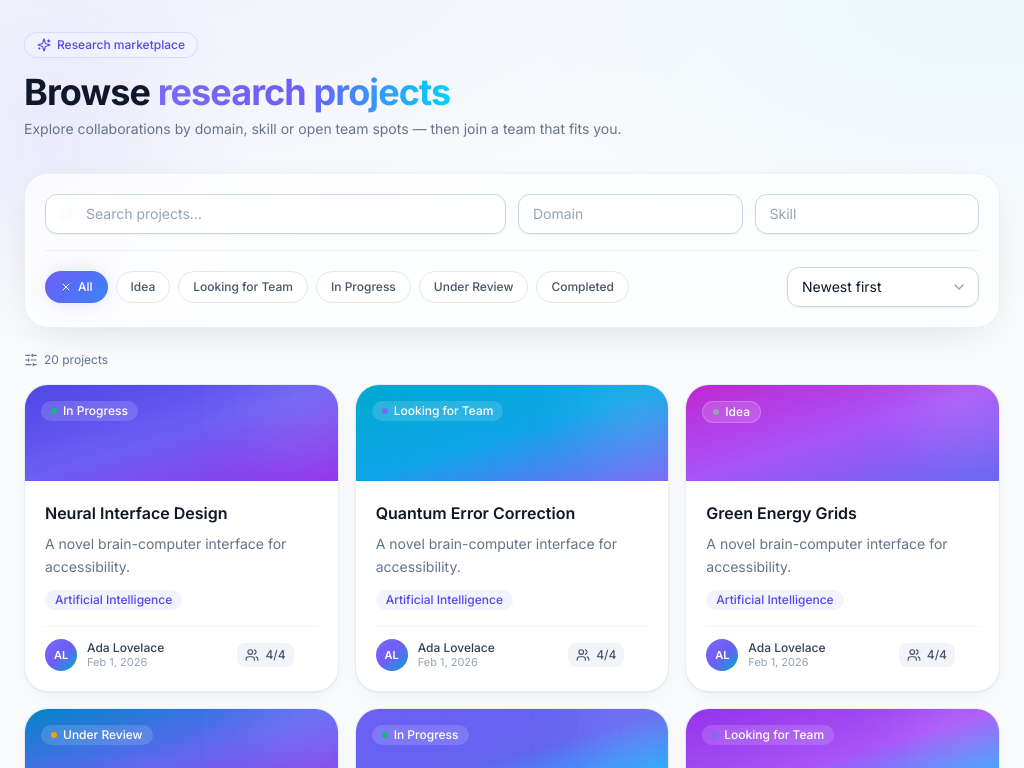
Test: Project Directory › shows an empty state when nothing matches
Expected: the heading "Neural Interface Design" is shown, x1=45 y1=503 x2=228 y2=523
Type "zzz-no-match" into the search field labelled "Search projects" at x=276, y=214, box x1=45 y1=194 x2=506 y2=234
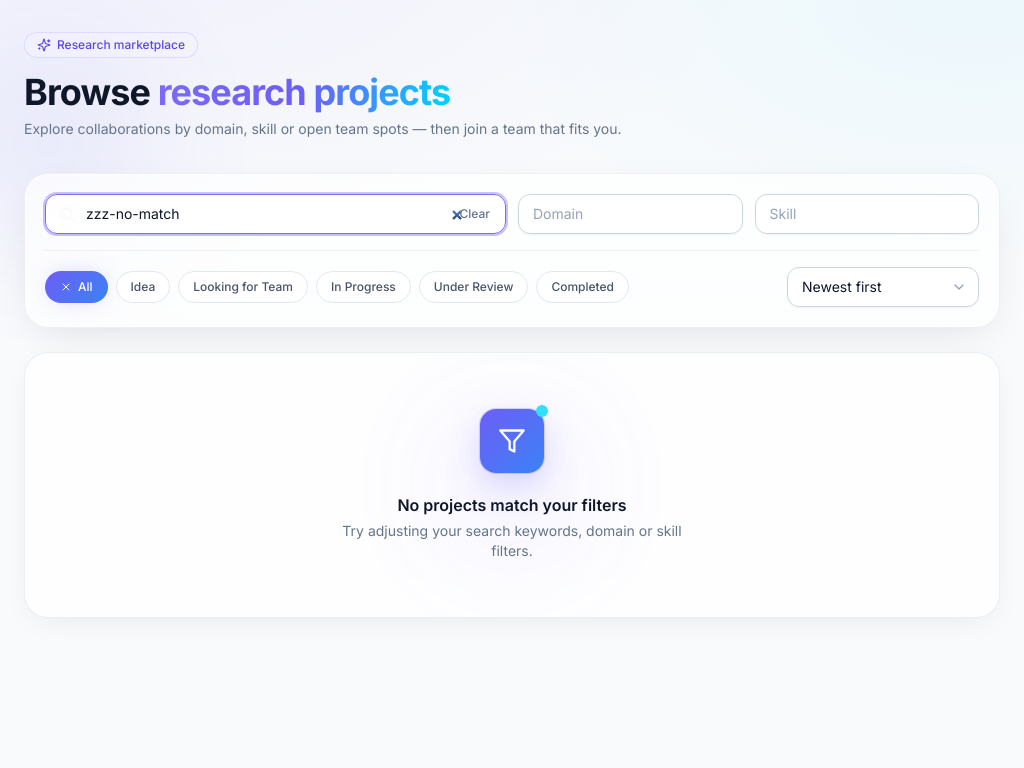
Expected: the heading "No projects match your filters" is shown, x1=397 y1=493 x2=627 y2=517
